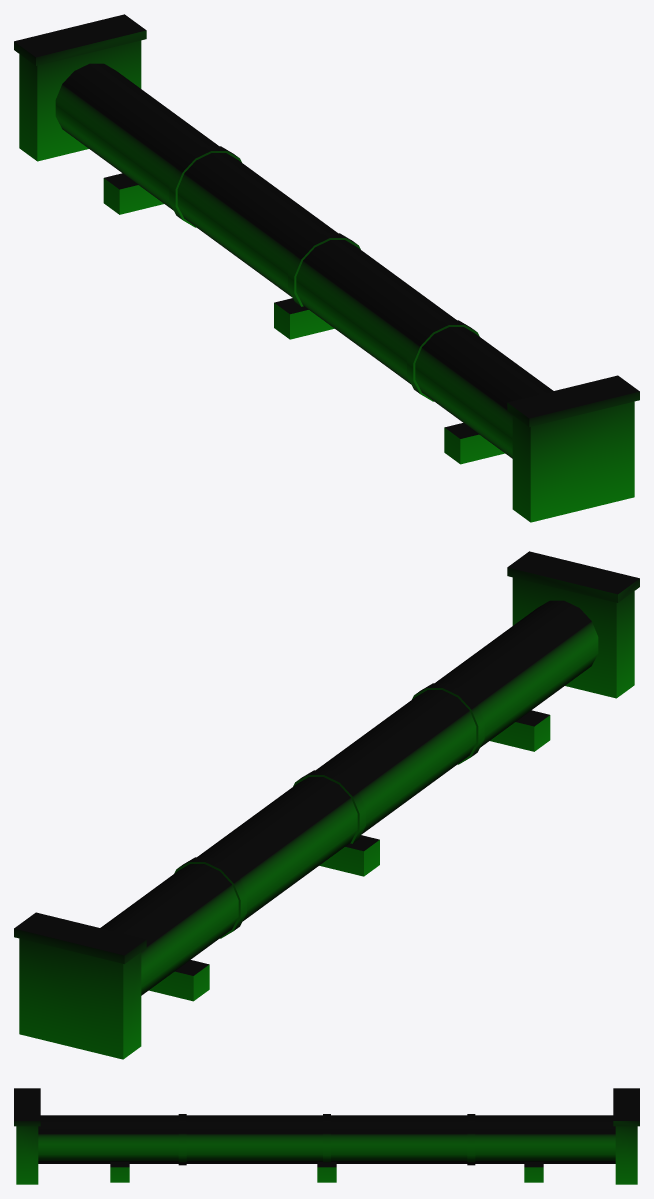
File: straightpipe3.glb
3 renders of one model, top to bottom at view 1: azimuth 30°, elevation 25°; view 2: azimuth 150°, elevation 25°; view 3: azimuth 270°, elevation 25°, orthographic. The views are drawn at different scales.
Parts seen in each view (by area): view 1: lod0; view 2: lod0; view 3: lod0.
Boxes of the visible parts, x1,y1,x2,y2 form: lod0: [14, 14, 639, 522]; lod0: [14, 551, 639, 1059]; lod0: [14, 1088, 639, 1184].
Size of what is drawn, in the model's own units: 3.2 by 2.94 by 25.8.
